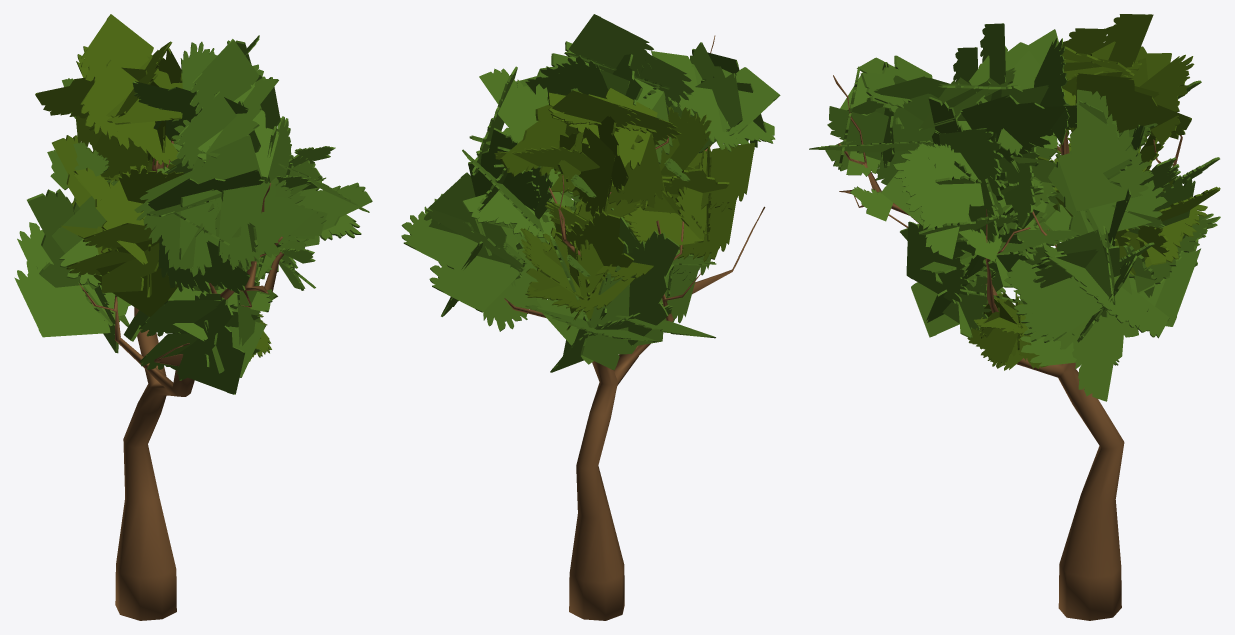
File: BOOM_.fbx
3 views of the same model, side by side, from view 1: azimuth 30°, elevation 25°; view 2: azimuth 150°, elevation 25°; view 3: azimuth 270°, elevation 25° (orthographic). The views are drawn at different scales.
Parts seen in each view (by area): view 1: Plane.018, Cube.001, Plane.016, Plane.019, Plane.015, Plane.021, Plane.023, Plane.017, Plane.022, Plane.002, Plane.024, Plane.014 (+1 smaller); view 2: Plane.016, Plane.024, Cube.001, Plane.023, Plane.015, Plane.020, Plane.022, Plane.019, Plane.018, Plane.021; view 3: Plane.024, Plane.017, Plane.019, Cube.001, Plane.020, Plane.016, Plane.018, Plane.021, Plane.015, Plane.022, Plane.014, Plane.025 (+2 smaller).
Boxes of the visible parts, x1,y1,x2,y2 form: Plane.018: (134, 135, 327, 293); Cube.001: (79, 140, 283, 620); Plane.016: (35, 14, 182, 180); Plane.019: (132, 39, 280, 178); Plane.015: (14, 176, 169, 353); Plane.021: (139, 243, 281, 394); Plane.023: (66, 167, 183, 316); Plane.017: (263, 116, 372, 250); Plane.022: (52, 135, 175, 238); Plane.002: (62, 78, 335, 176); Plane.024: (261, 175, 361, 290); Plane.014: (151, 163, 317, 309); Plane.016: (494, 88, 681, 217); Plane.024: (401, 172, 546, 331); Cube.001: (504, 35, 765, 620); Plane.023: (622, 105, 755, 261); Plane.015: (525, 208, 716, 372); Plane.020: (462, 66, 572, 243); Plane.022: (520, 199, 653, 330); Plane.019: (515, 14, 693, 163); Plane.018: (651, 42, 780, 152); Plane.021: (659, 252, 710, 323); Plane.024: (1004, 226, 1169, 401); Plane.017: (881, 97, 1049, 259); Plane.019: (919, 23, 1076, 172); Cube.001: (833, 75, 1182, 620); Plane.020: (1010, 89, 1180, 247); Plane.016: (1035, 14, 1194, 153); Plane.018: (809, 55, 949, 185); Plane.021: (900, 211, 1047, 338); Plane.015: (1025, 175, 1220, 326); Plane.022: (1037, 134, 1220, 275); Plane.014: (954, 142, 1081, 287); Plane.025: (967, 292, 1047, 370).
Size of the model in its own units: 1501 by 2747 by 1688.
